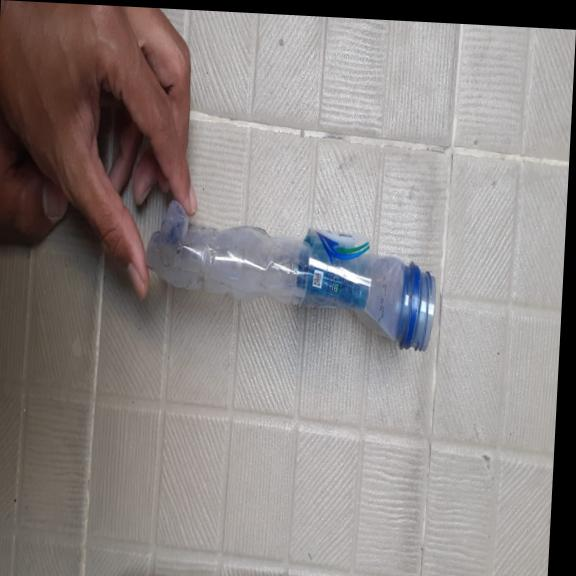Plastik: (138, 202, 440, 357)
